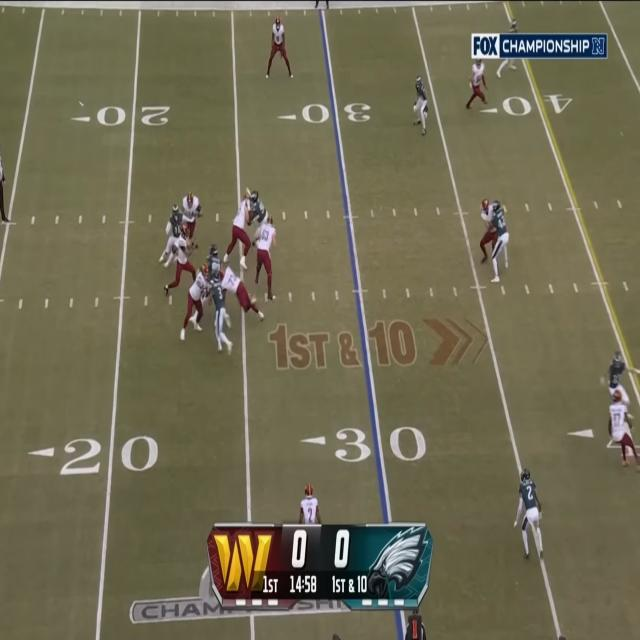Ball: (191, 235, 200, 250)
